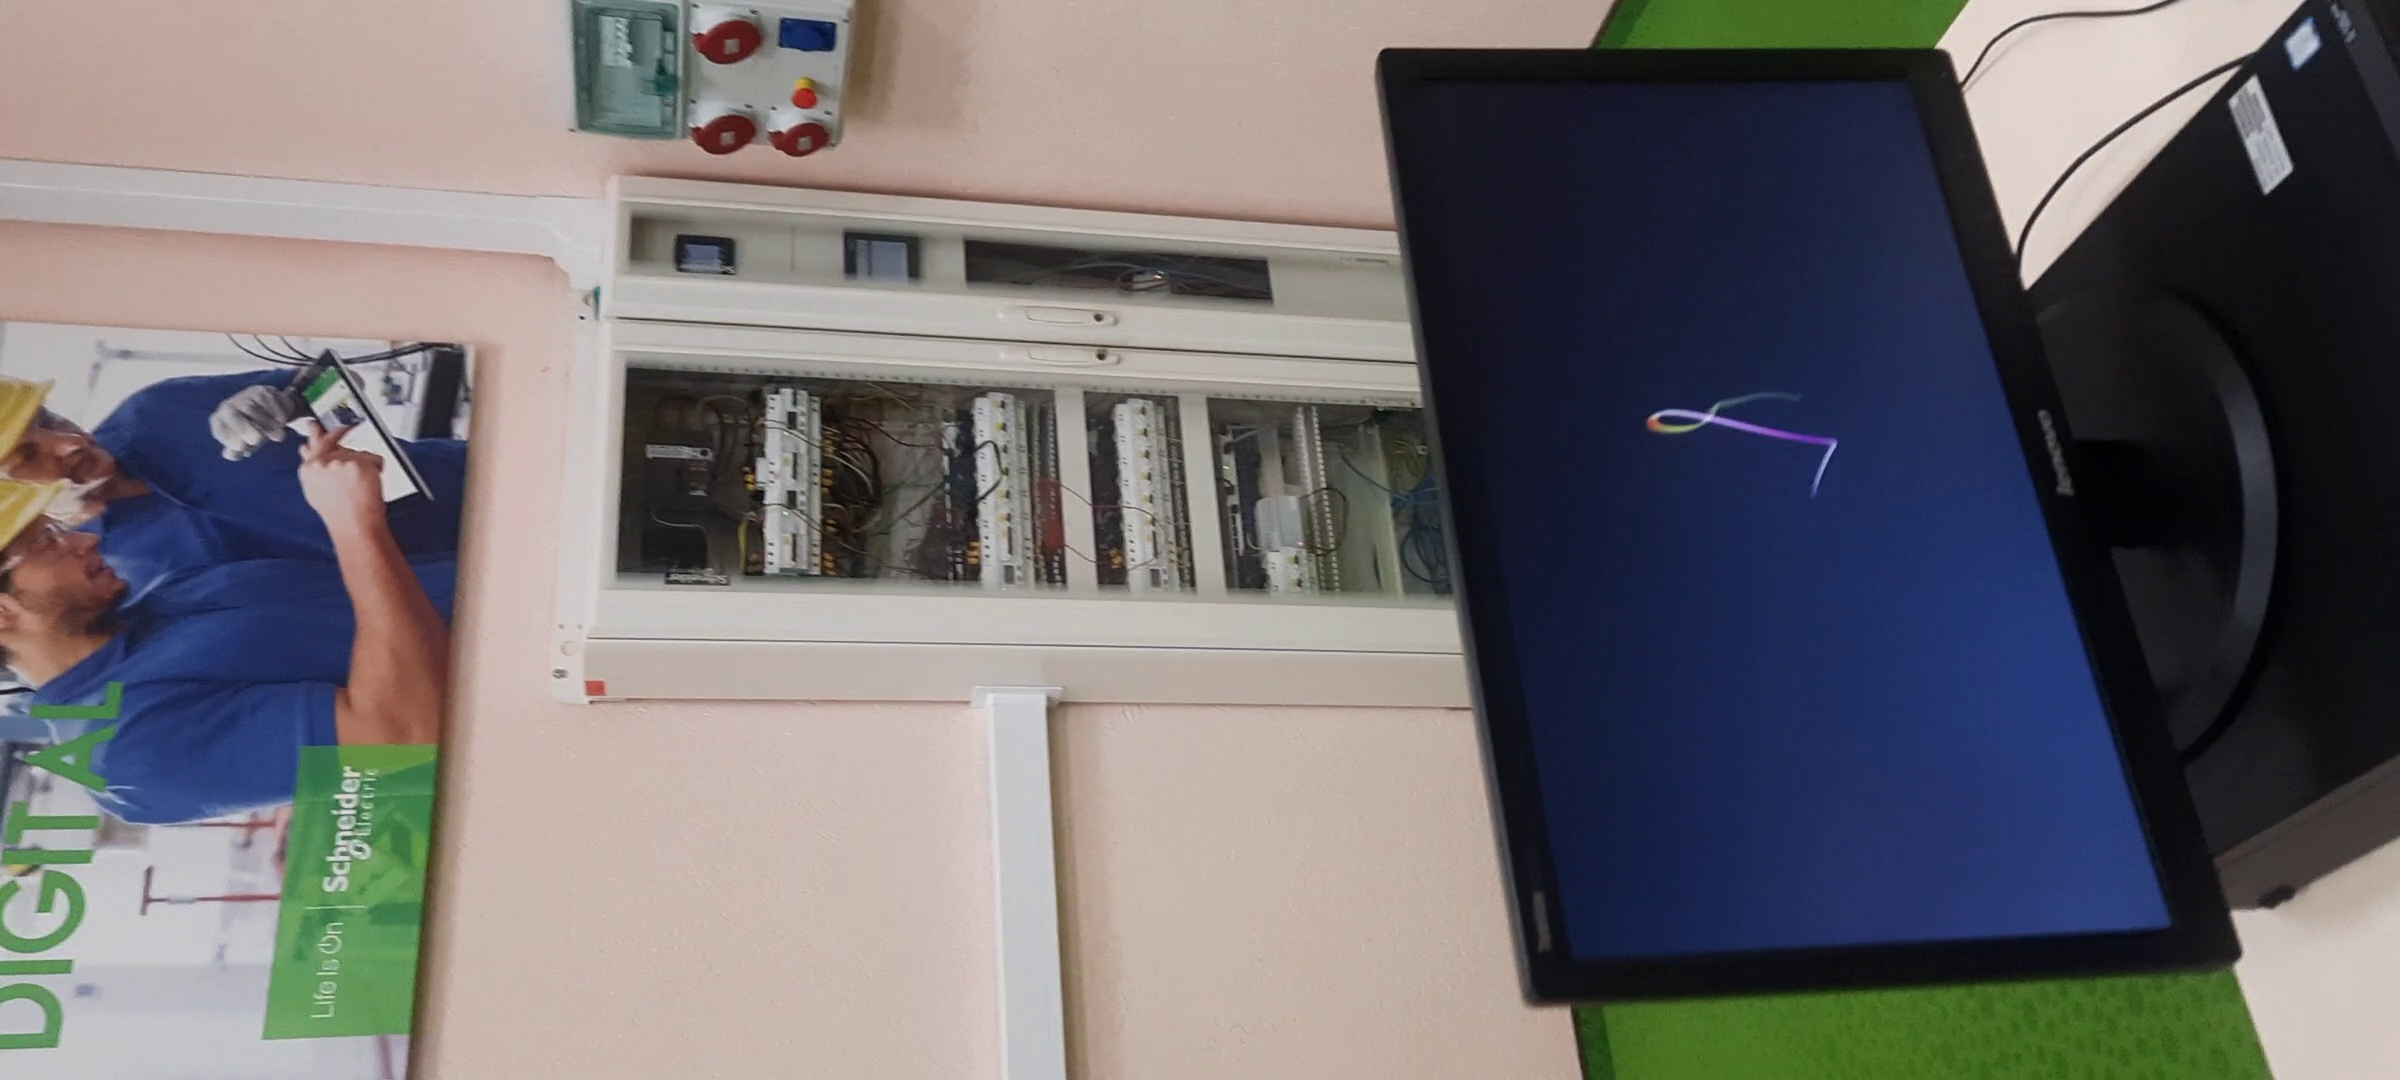stand1: (556, 174, 1442, 717)
